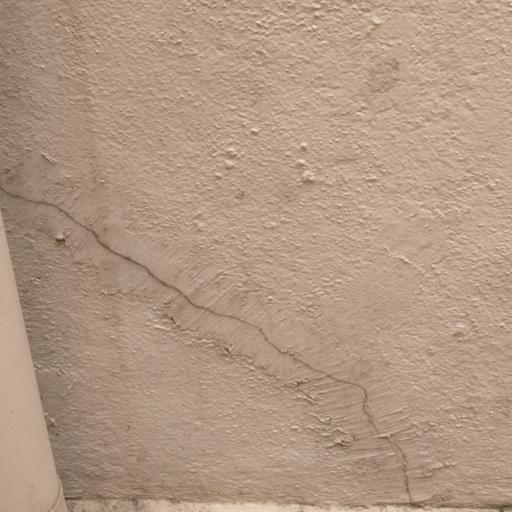minor_crack: (0, 139, 438, 506)
